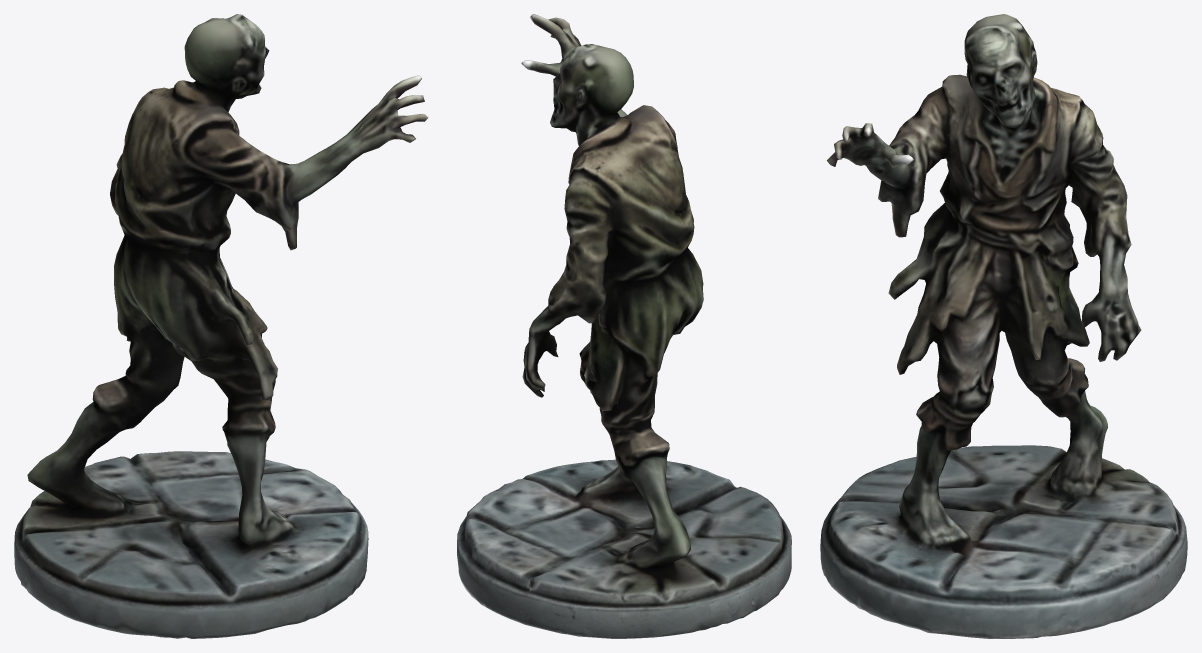
Rendered from zombie.glb.
The picture shows the model from 3 angles, left to right: view 1: azimuth 30°, elevation 25°; view 2: azimuth 150°, elevation 25°; view 3: azimuth 270°, elevation 25°; orthographic projection. The views are drawn at different scales.
Parts seen in each view (by area): view 1: lagrange_node; view 2: lagrange_node; view 3: lagrange_node.
Part boxes in pixels (left/top/right/bottom): lagrange_node: left=14, top=14, right=428, bottom=638; lagrange_node: left=457, top=14, right=791, bottom=638; lagrange_node: left=820, top=14, right=1187, bottom=638.
Bounding box in the file's own units: 1.24 × 2 × 1.19.
1 material, 1 textured.
